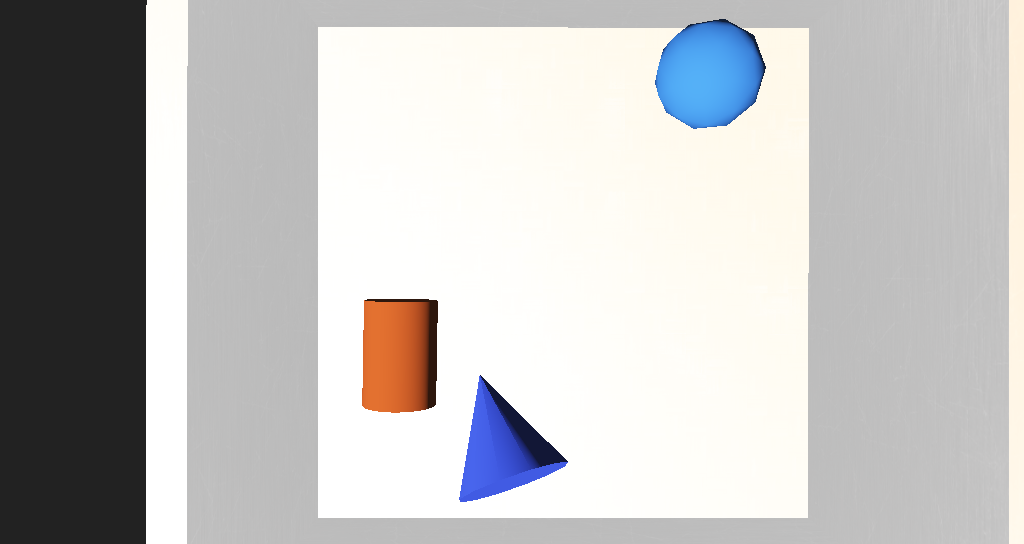cone: (377, 277, 431, 324)
cylinder: (404, 296, 512, 372)
sphere: (563, 165, 623, 208)
